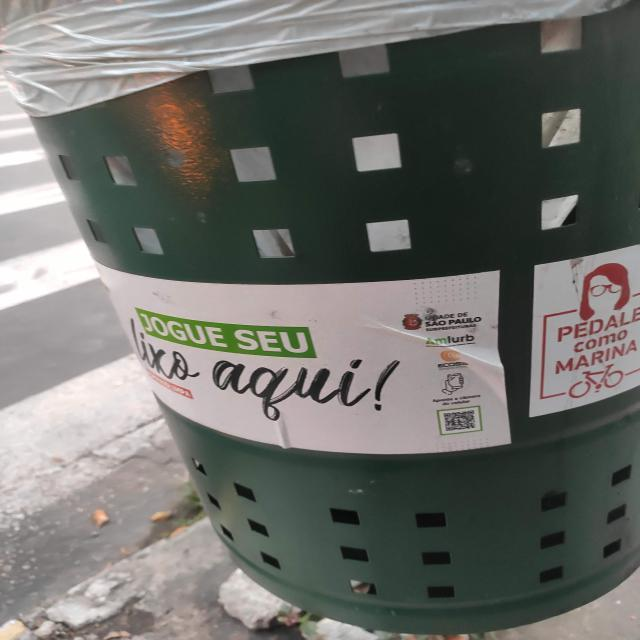qrcode: (445, 411, 477, 432)
